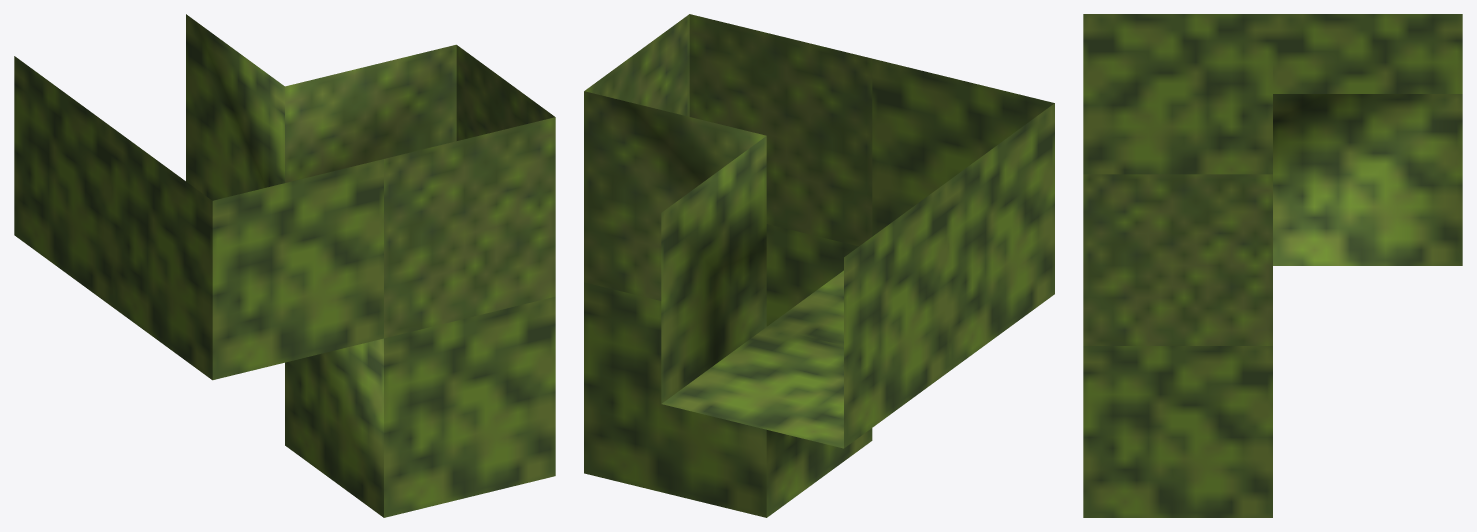
File: PLAYABLE_014.fbx
3 views of the same model, side by side, from view 1: azimuth 30°, elevation 25°; view 2: azimuth 150°, elevation 25°; view 3: azimuth 270°, elevation 25° (orthographic). The views are drawn at different scales.
Visible parts, largest first — view 1: PLAYABLE.014; view 2: PLAYABLE.014; view 3: PLAYABLE.014.
Part boxes in pixels (x1,y1,x2,y2): PLAYABLE.014: [14, 14, 555, 517]; PLAYABLE.014: [584, 14, 1054, 517]; PLAYABLE.014: [1083, 14, 1462, 517].
Size of the model in its own units: 200 by 200 by 200.
